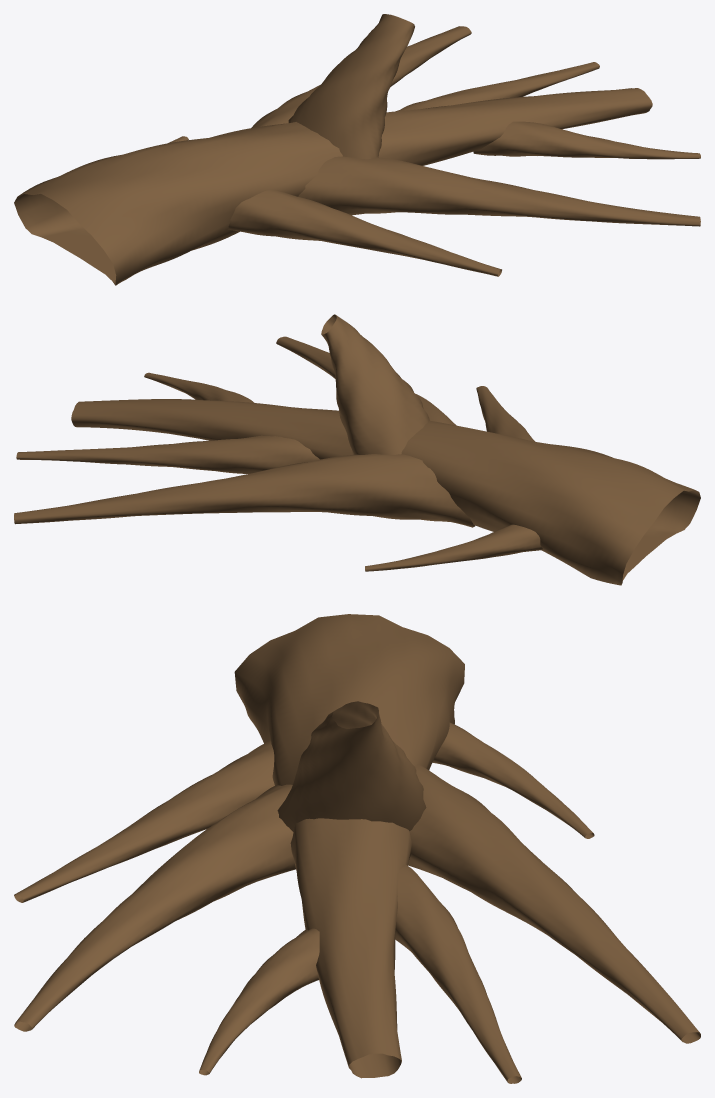
The model's file is CanopyKinRootNetwork.fbx.
The picture shows the model from 3 angles, top to bottom: view 1: azimuth 30°, elevation 25°; view 2: azimuth 150°, elevation 25°; view 3: azimuth 270°, elevation 25°; orthographic projection. The views are drawn at different scales.
Parts seen in each view (by area): view 1: RootNetwork_LOD0; view 2: RootNetwork_LOD0; view 3: RootNetwork_LOD0.
Part boxes in pixels (<box>): RootNetwork_LOD0: <box>14,14,700,285</box>; RootNetwork_LOD0: <box>14,314,700,585</box>; RootNetwork_LOD0: <box>14,614,700,1083</box>.
Size of what is drawn, in the model's own units: 6.63 by 1.73 by 4.93.
